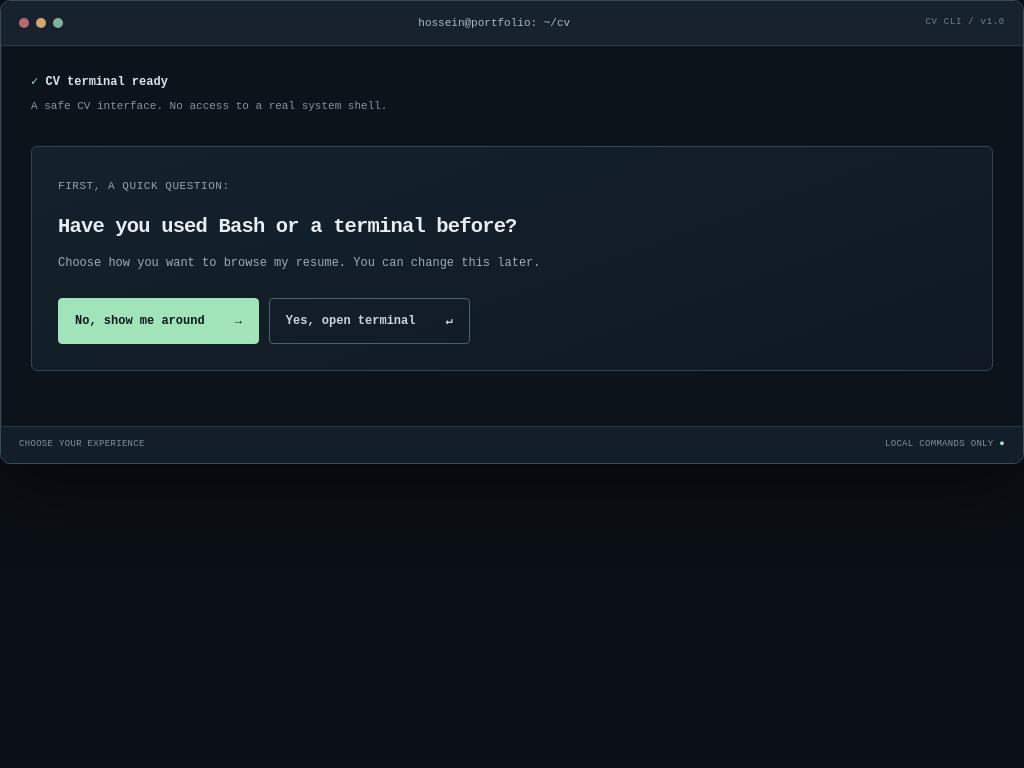
Test: CV terminal visitor flows › lets a beginner click commands to see detailed real CV data
Click the button "No, show me around →" at (158, 321), box [58,298,259,344]
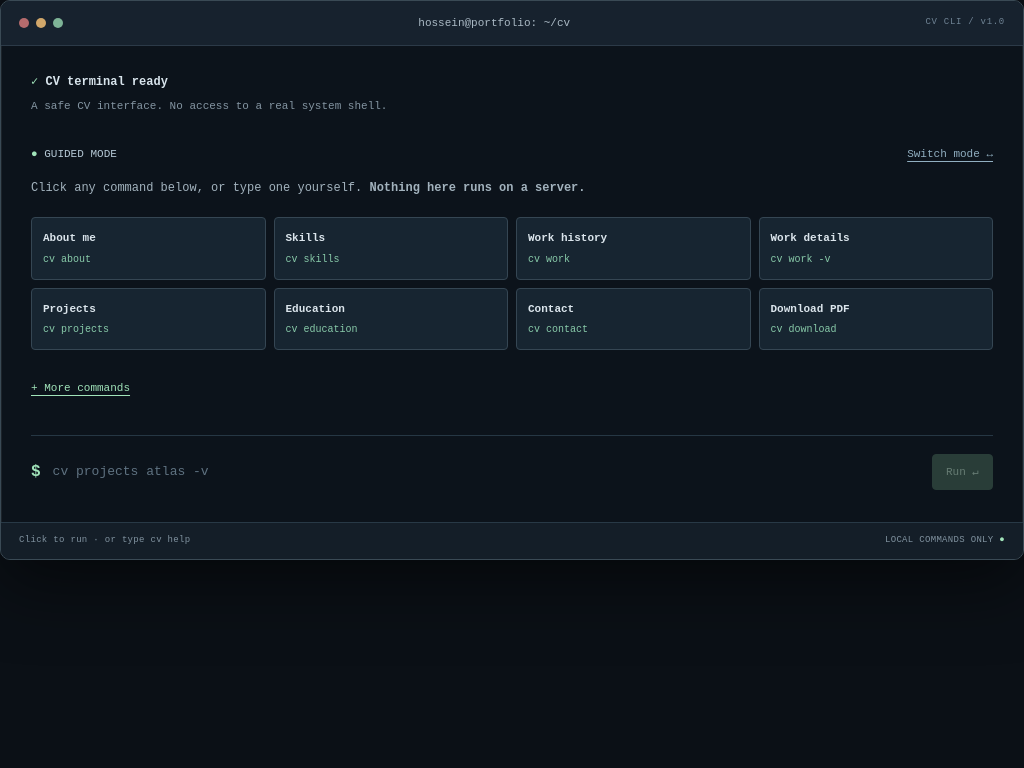
Expected: the text "GUIDED MODE" is shown, [44,148,117,160]
Expected: the button "Work details cv work -v" is shown
Click the button "Work details cv work -v" at (876, 248), box [758,217,993,280]
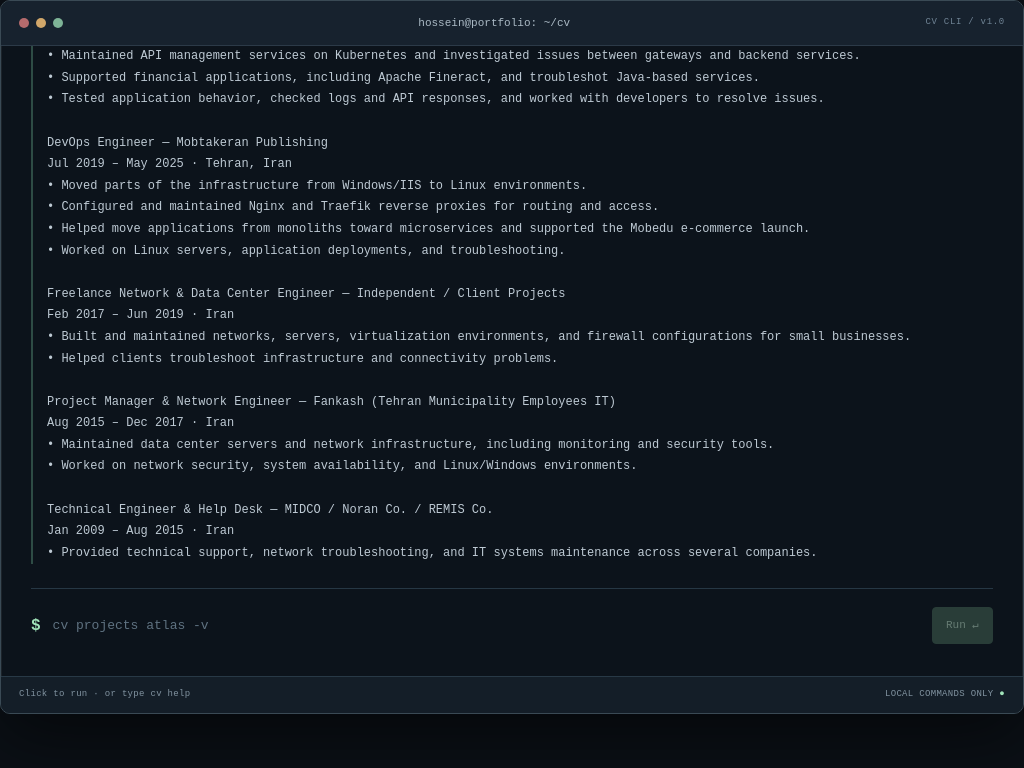
Expected: the text "Apache Fineract" is shown, [47,71,760,85]
Expected: the text "Mobtakeran" is shown, [47,136,328,150]
